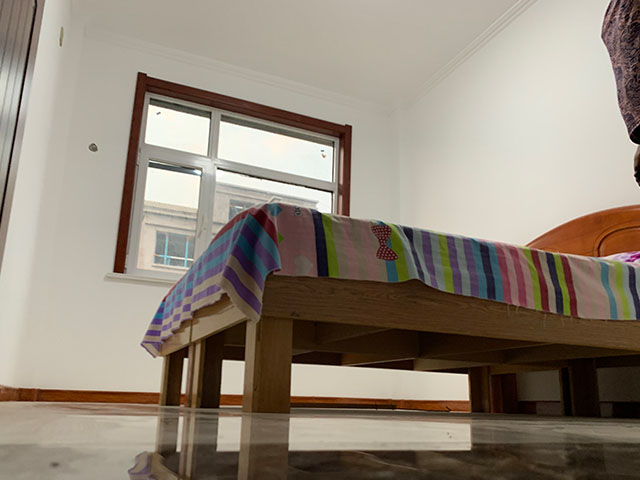bed: (139, 202, 640, 415)
